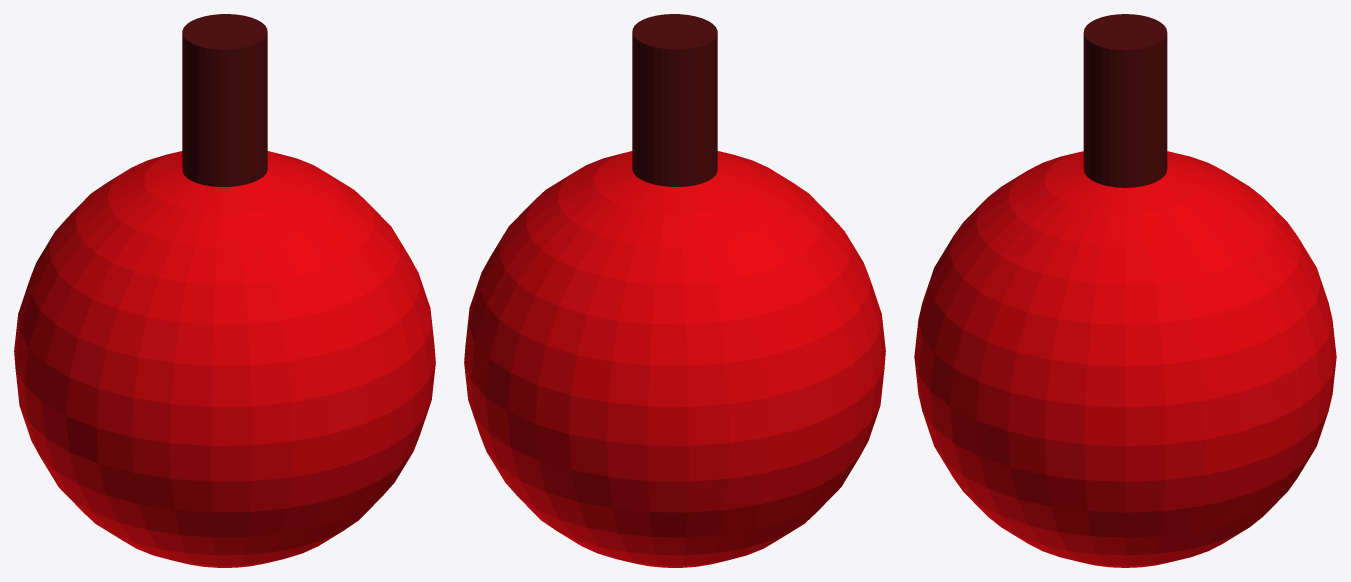
File: リンゴ.fbx
The picture shows the model from 3 angles, left to right: view 1: azimuth 30°, elevation 25°; view 2: azimuth 150°, elevation 25°; view 3: azimuth 270°, elevation 25°; orthographic projection.
Parts seen in each view (by area): view 1: Sphere, Cylinder; view 2: Sphere, Cylinder; view 3: Sphere, Cylinder.
Part boxes in pixels (box(x1,y1,x2,y2)): Sphere: box(14, 151, 435, 567); Cylinder: box(182, 14, 267, 186); Sphere: box(464, 151, 885, 567); Cylinder: box(632, 14, 717, 186); Sphere: box(914, 151, 1336, 567); Cylinder: box(1083, 14, 1167, 187).
Bounding box in the file's own units: 200 × 270 × 200.
